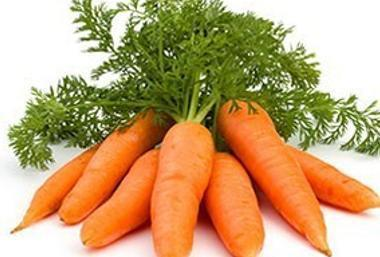carrot: (29, 97, 378, 255), (114, 111, 298, 252)
